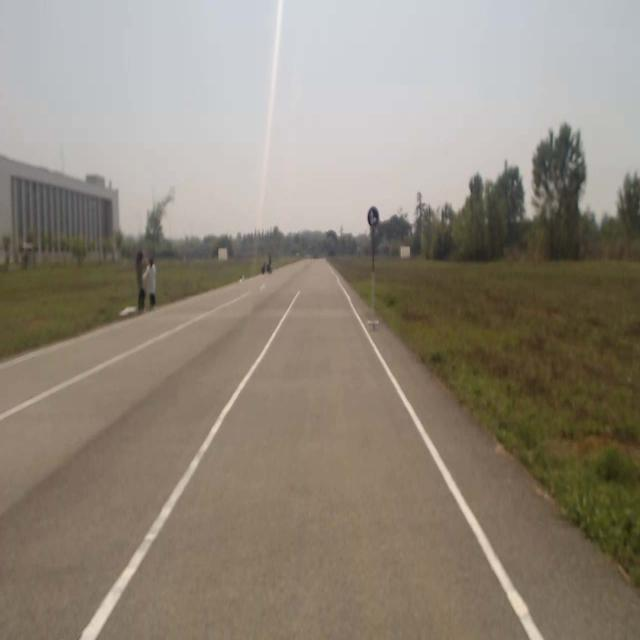ilerisag: (368, 205, 380, 226)
